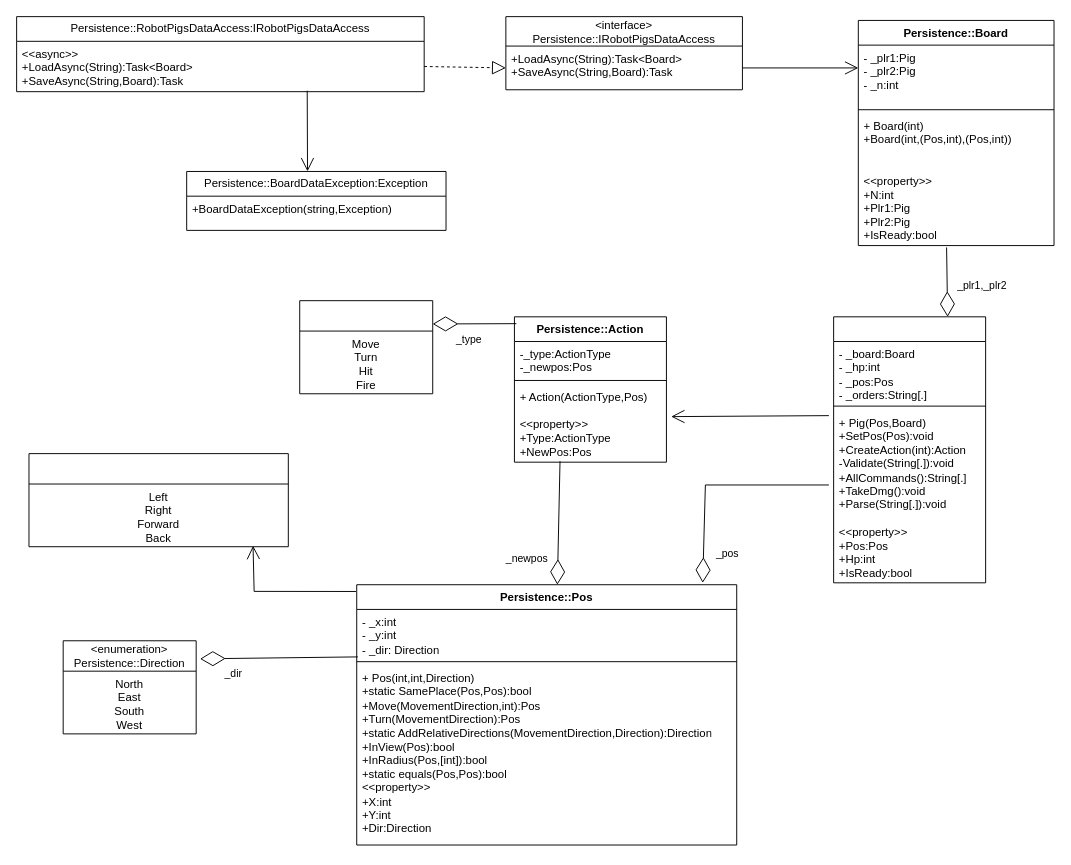
The diagram is 1071 pixels wide and 865 high, and some of its shapes have lost their labels. The shapes that lost their labels are listed below. From the top down, each one's box as (x1, y1, x2, y2) in pixels, then its label:
(299, 300, 433, 394): <enumeration> Persistence::ActionType
(833, 316, 986, 583): Persistence::Pig
(28, 453, 288, 547): <enumeration> Persistence::MovementDirection
